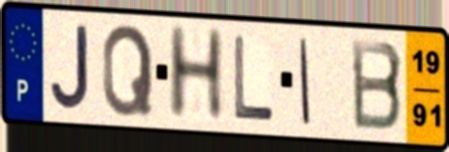B: (348, 36, 405, 134)
H: (165, 23, 227, 123)
I: (297, 35, 313, 128)
J: (48, 22, 92, 113)
L: (231, 32, 277, 124)
Q: (99, 21, 155, 119)
